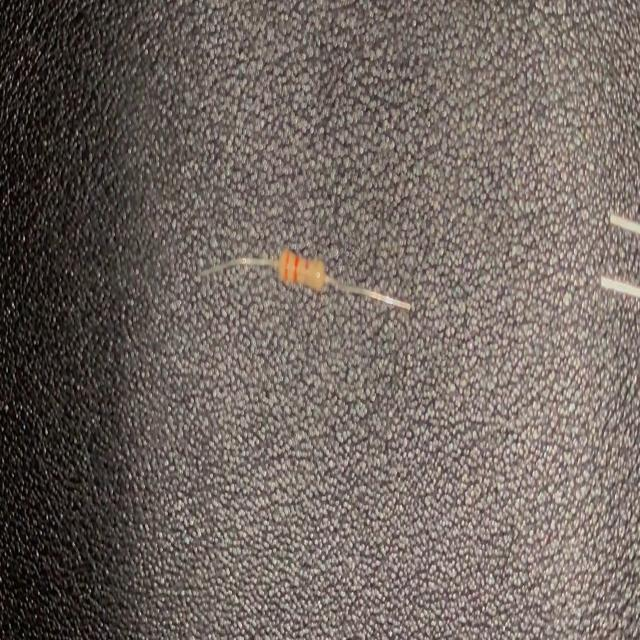faded: (302, 252, 322, 293)
resistor: (199, 243, 414, 317)
